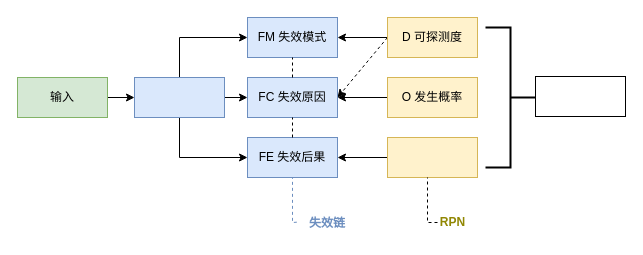
Some shapes in this 643 by 255 pixel diagram are drawn without their labels. The shapes that lost their labels are listed below. From the top down, each one's centre as x and y in pixels, then its label:
point 179,97: 潜在失效
point 580,96: 风险评估
point 432,157: S 重要度
